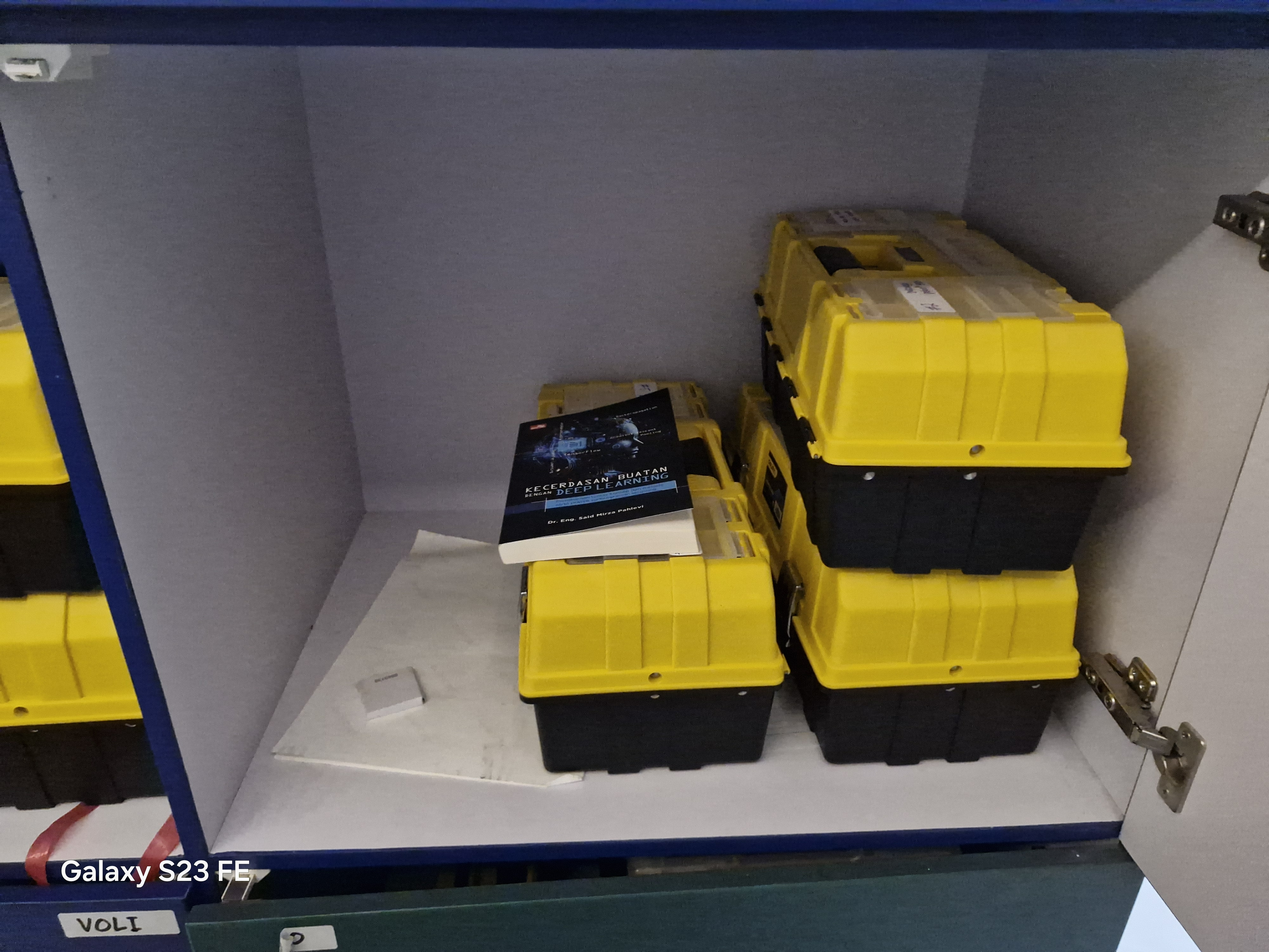book: (499, 389, 700, 562)
box: (755, 208, 1129, 574), (776, 555, 1078, 765), (519, 554, 785, 773), (537, 379, 769, 559), (0, 593, 80, 808), (0, 278, 68, 485)
cabinet-merged: (0, 0, 1268, 951), (356, 668, 424, 719)
paper: (273, 531, 576, 786)
